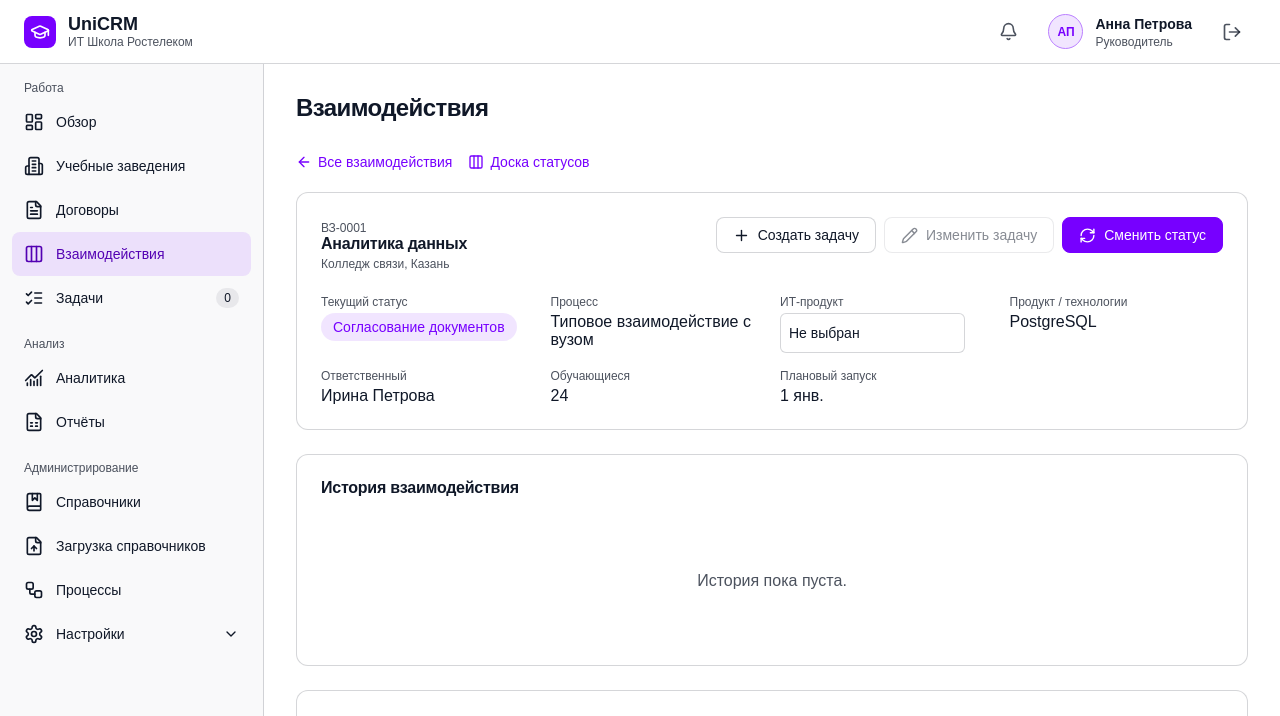
Test case: interaction detail: manual task creation › locks the task to that university and interaction, closes the modal, and shows it under Связанные задачи without a manual reload
The width and height of the screenshot is (1280, 716).
Expected: the text "Ручная задача" is not shown
Click the button "Создать задачу". click: coordinates (796, 235)
box: [716,217,876,253]
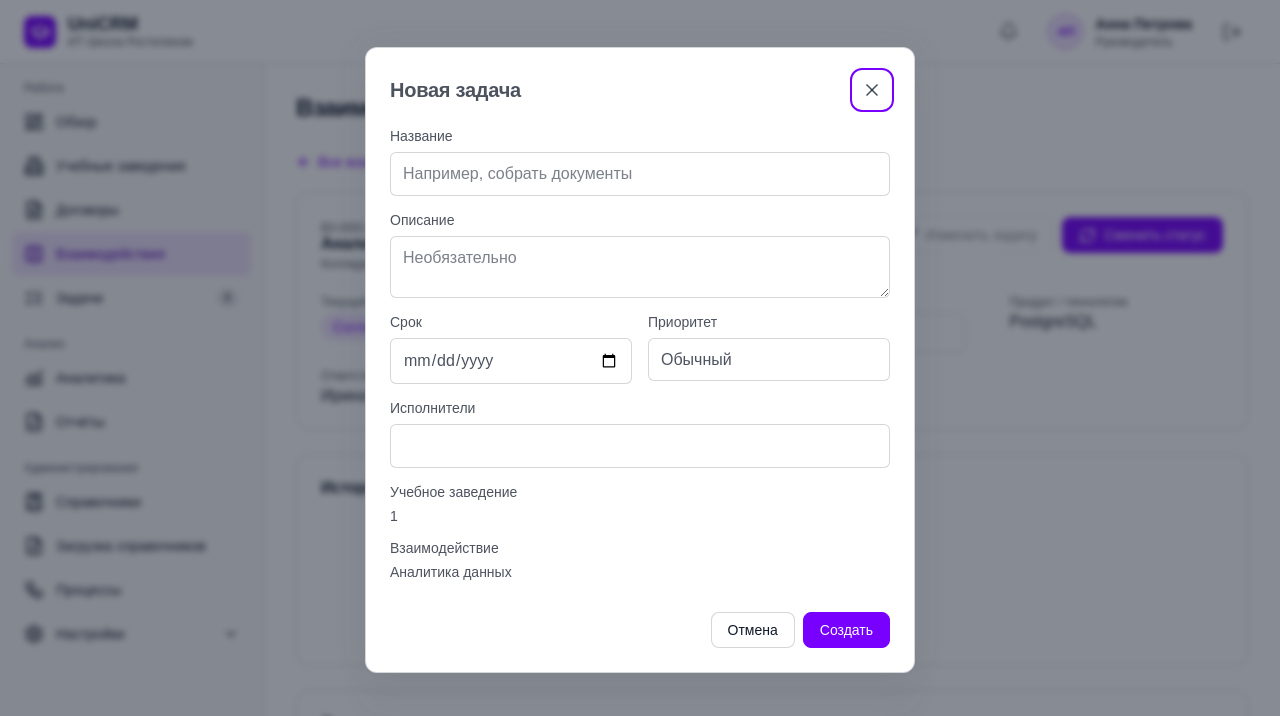
Type "Ручная задача" into the field with placeholder "Например, собрать документы". click: coordinates (640, 174)
box: [390,152,890,196]
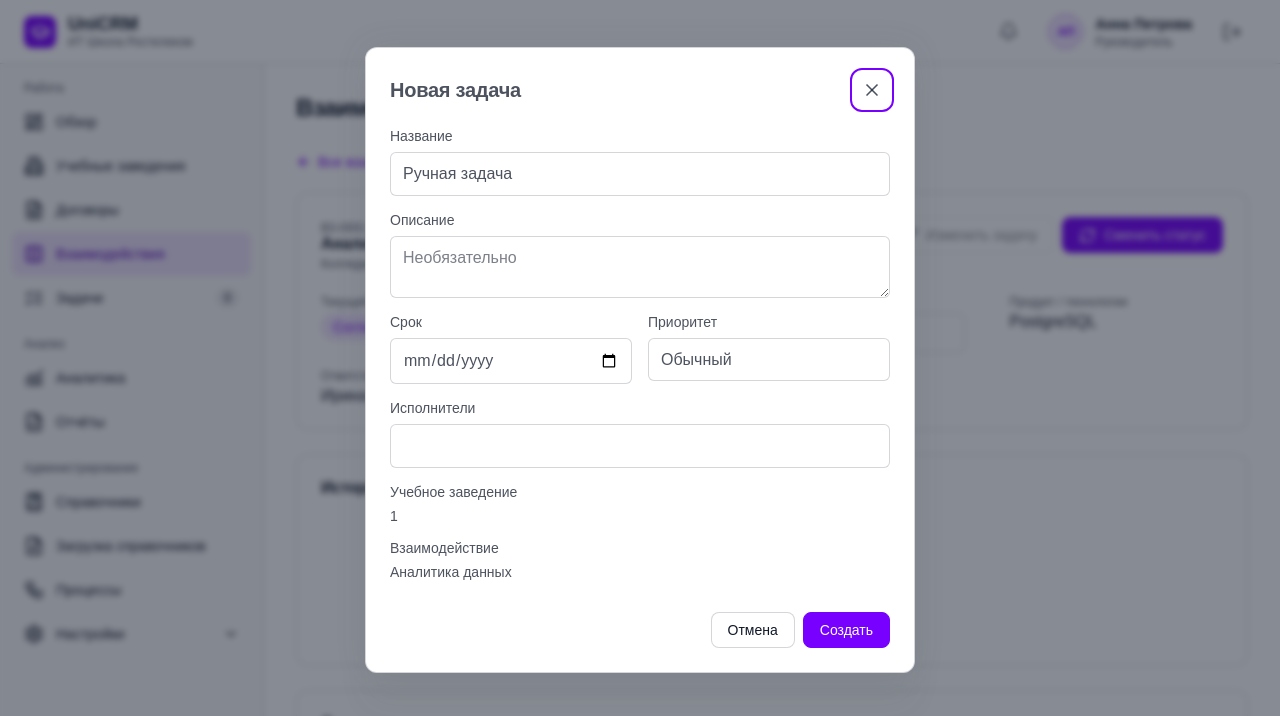
Submit the form, box [390,128,890,648]
(page scrolled)
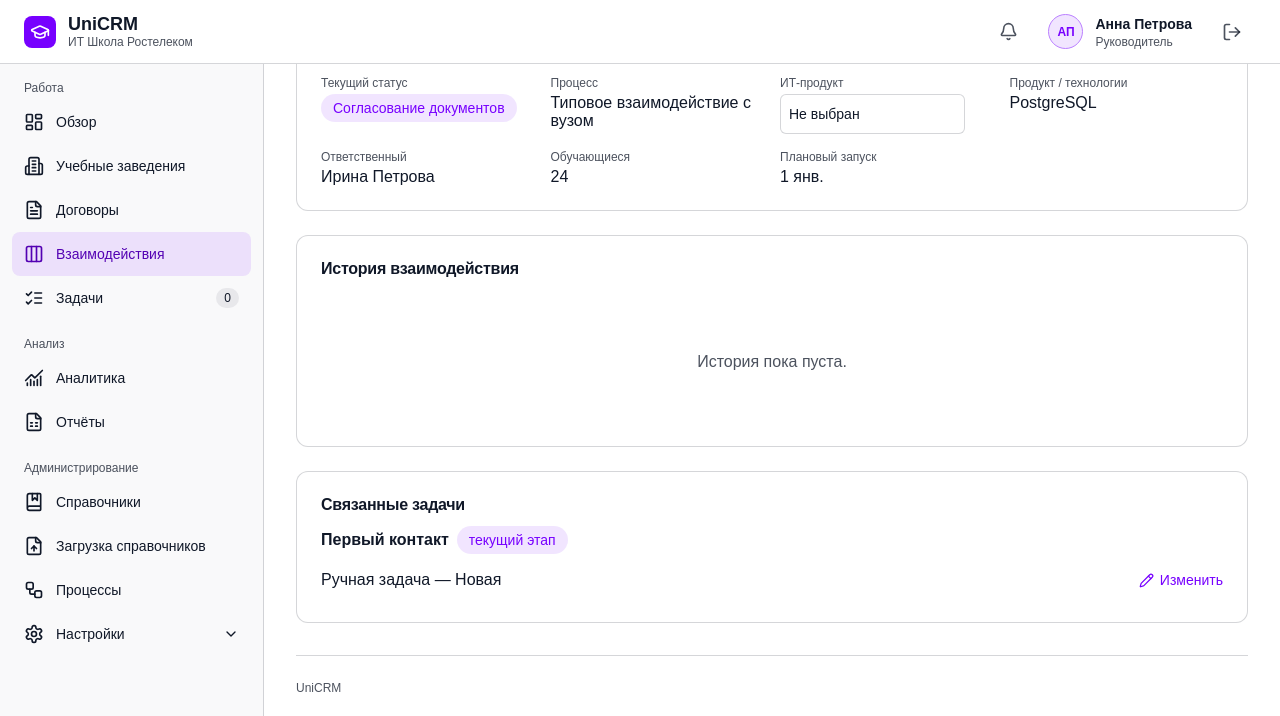
Now the dialog is gone
Now the link "Ручная задача" is shown, box [321,571,430,588]
